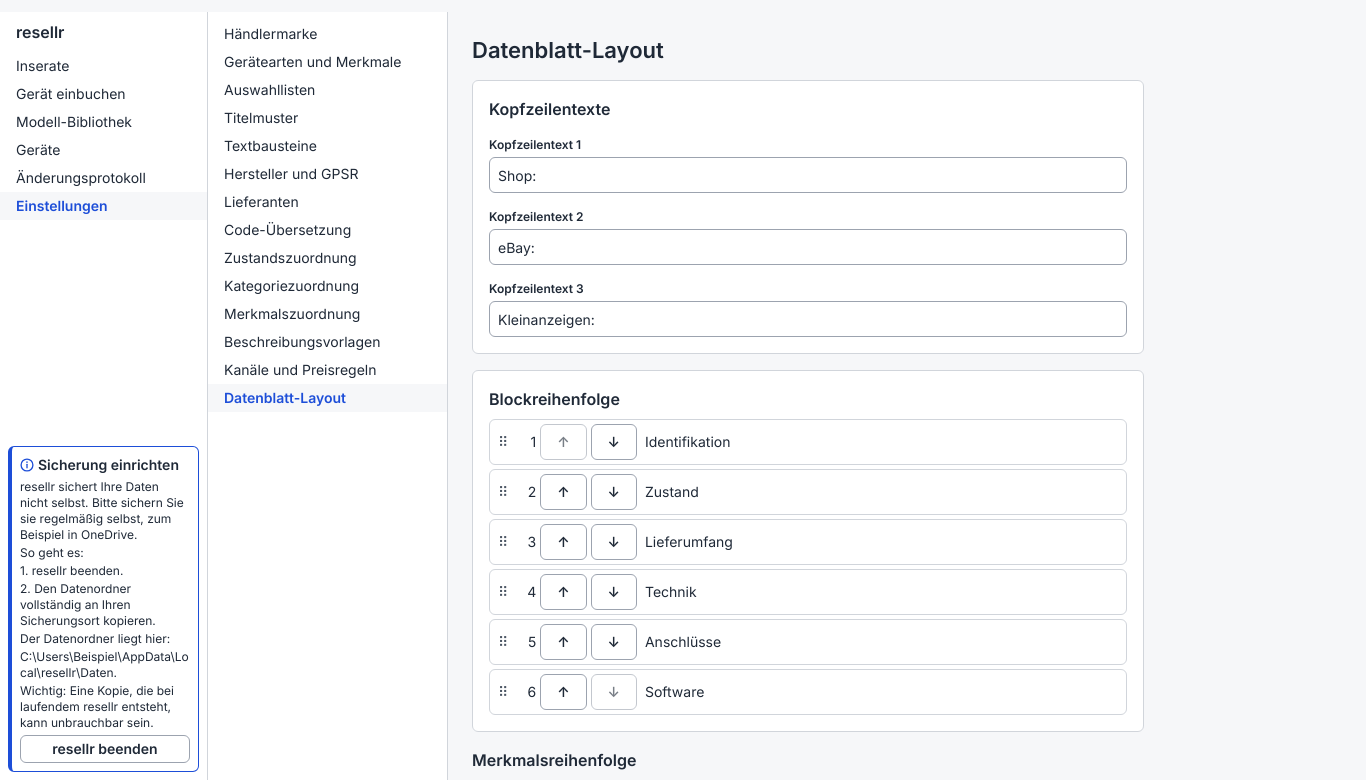
Scenario: UI-039 datasheet layout (CU-102) › UI-039.success DER-85-01 saves header labels, block order and attribute order changed with the keyboard and shows "Datenblatt-Layout gespeichert"
Step 1. Replace the text in the field labelled "Kopfzeilentext 2" with "Ebay-Nr.:" → (808, 247), box [489,229,1127,265]
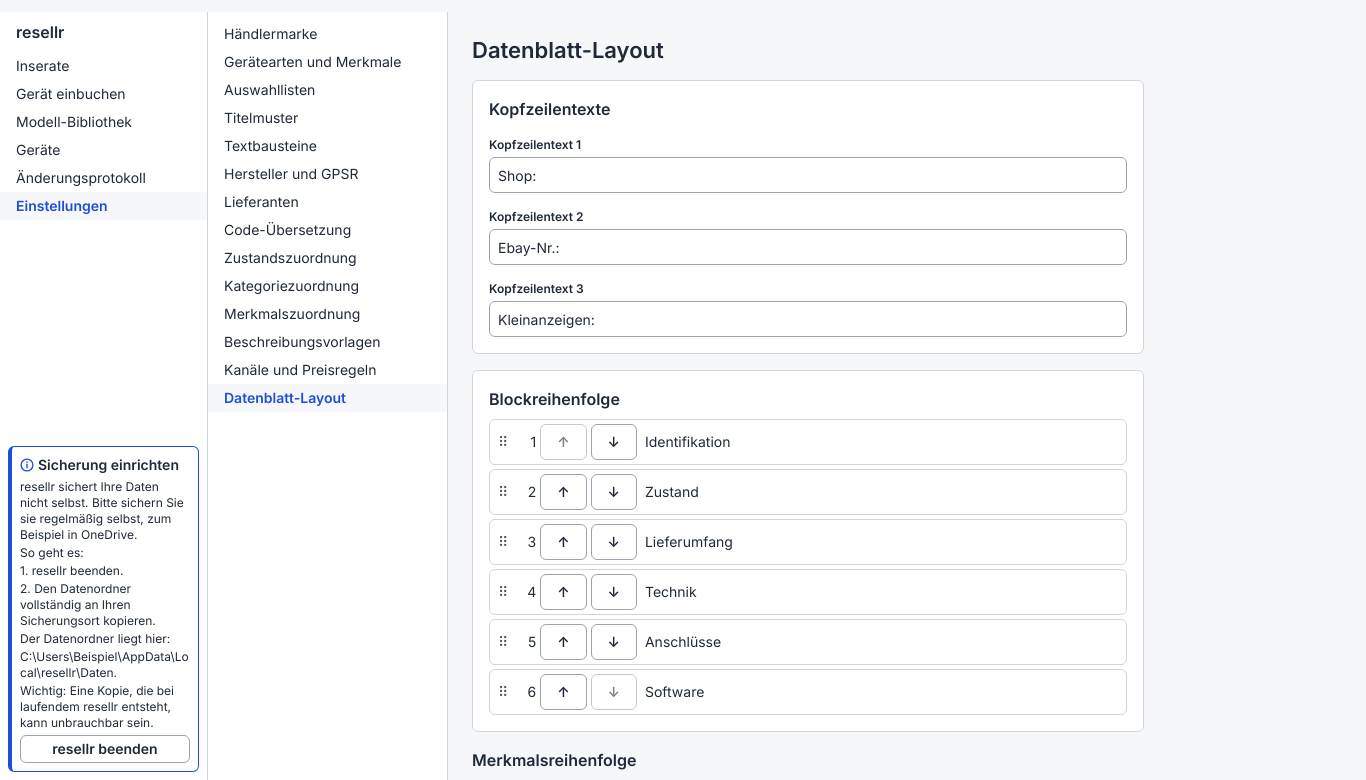
Step 2. Click the button named "Hoch" → (563, 642), box [540,624,587,660]
(page scrolled)
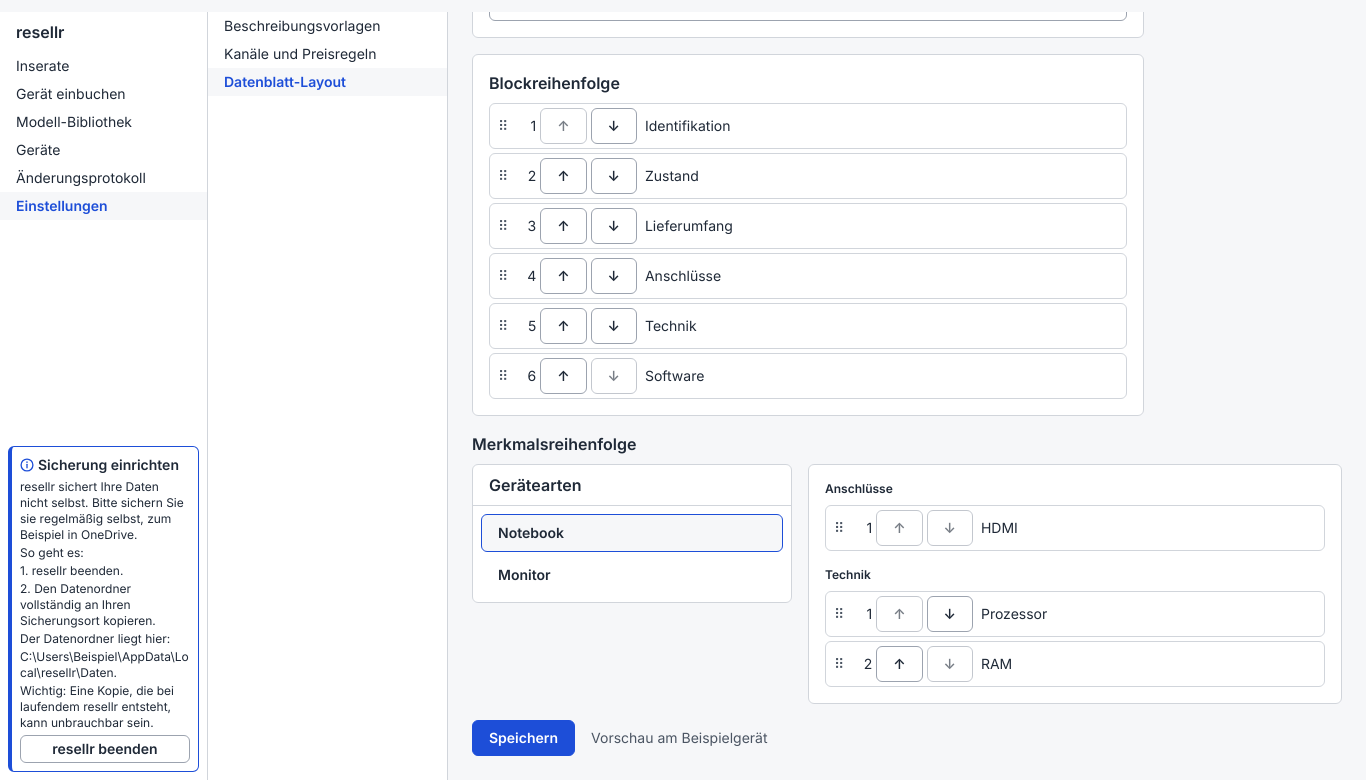
Step 3. Click the button named "Hoch" → (899, 664), box [876,646,923,682]
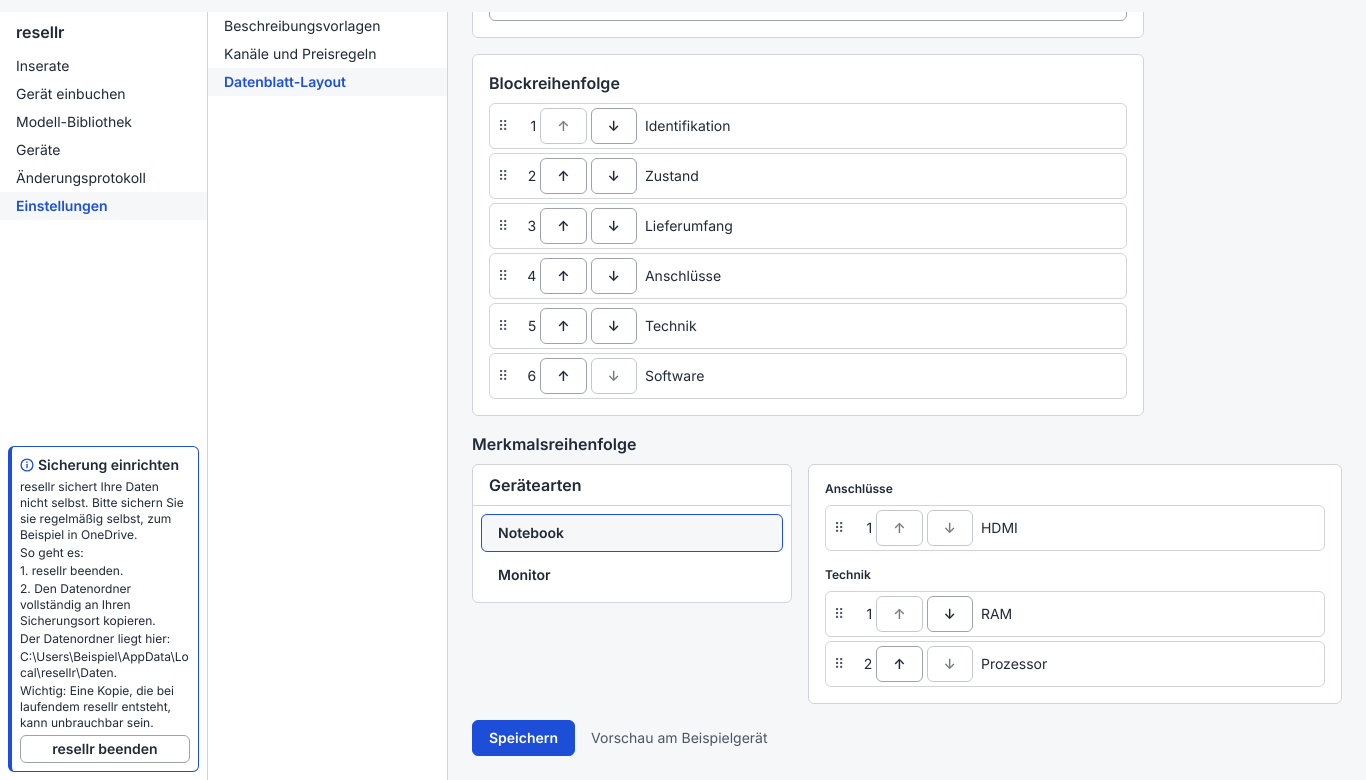
Step 4. Click the button "Speichern" → (524, 738), box [472,720,575,756]
Wait 5000 ms
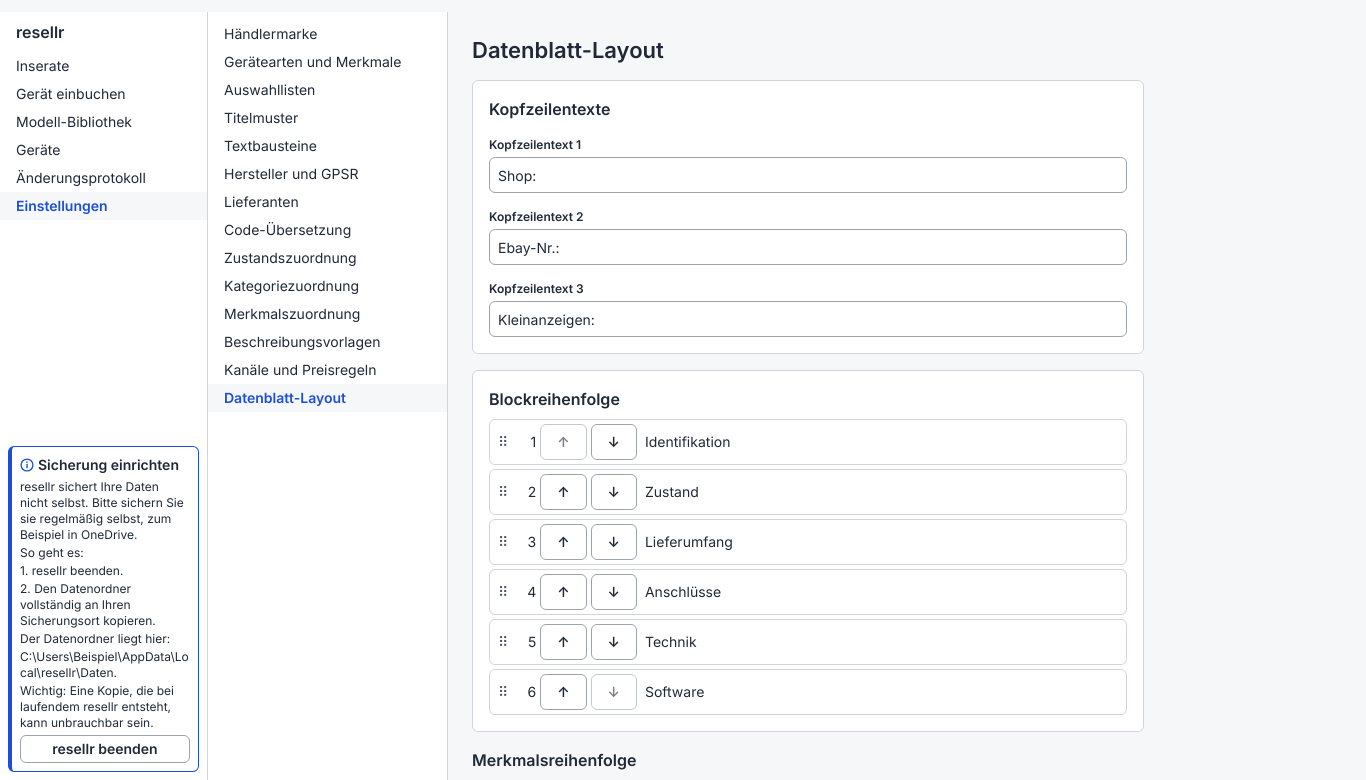
Expected: the heading "Datenblatt-Layout" is shown, [472,37,664,63]
